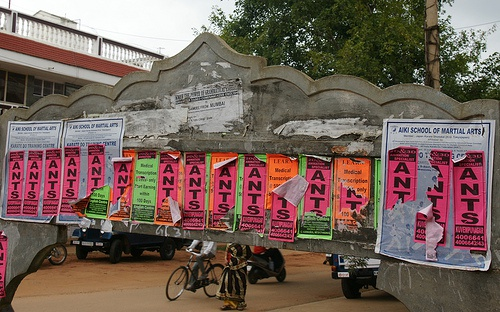non-vehicle: (164, 249, 223, 299), (46, 241, 69, 264)
